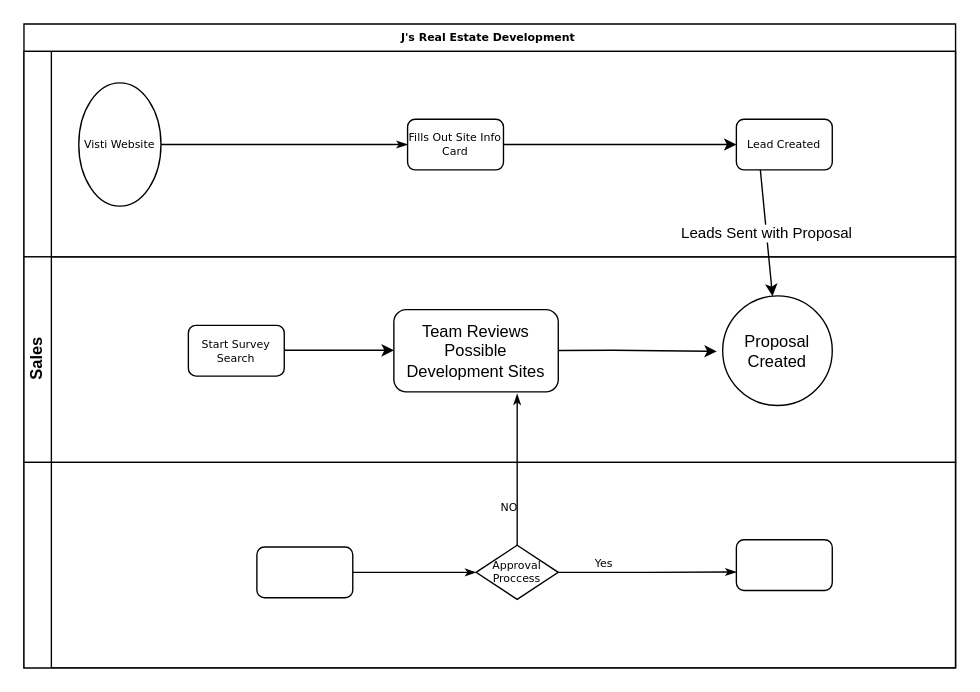
The diagram is 980 pixels wide and 692 high, and some of its shapes have lost their labels. The shapes that lost their labels are listed below. From the top down, each one's box as (x1, y1, x2, y2) in pixels, then its label:
(23, 50, 956, 257): Customer
(256, 546, 353, 598): Reviews Proposal
(23, 461, 956, 668): Management
(735, 538, 832, 590): Development Plan Set
